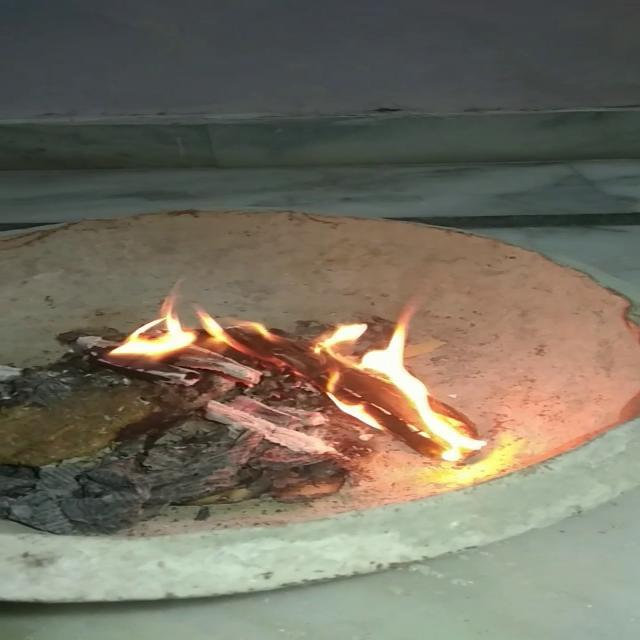Fire: (112, 284, 510, 472)
